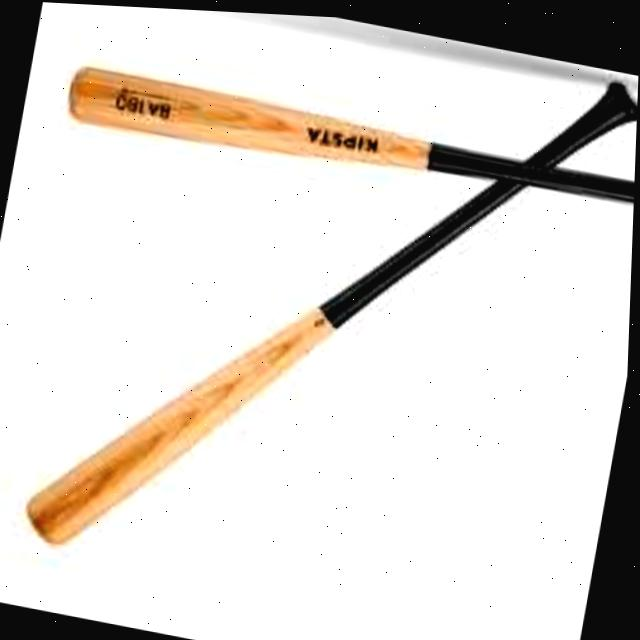baseball bat: (19, 75, 634, 542), (72, 67, 636, 202)
